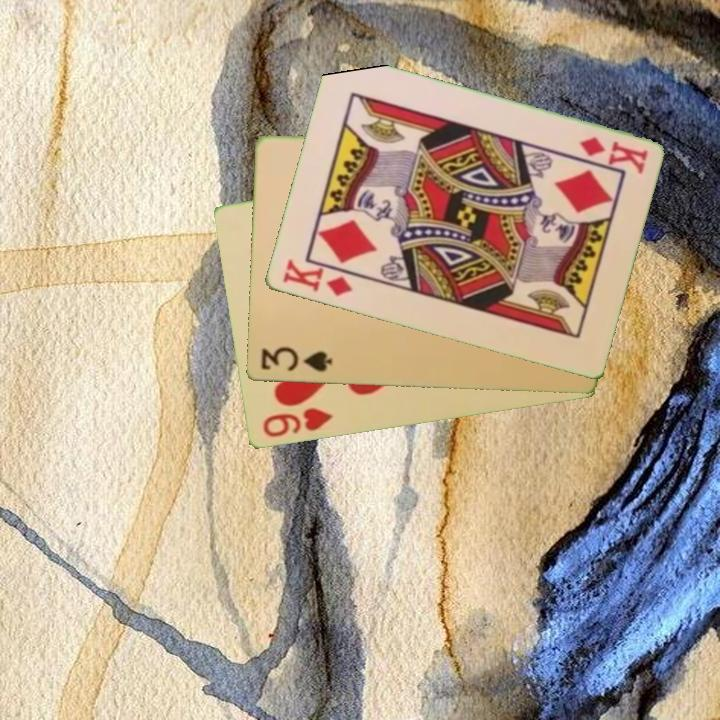3s: (257, 344, 334, 375)
9h: (259, 404, 335, 441)
Kd: (278, 255, 355, 300), (575, 133, 650, 176)
